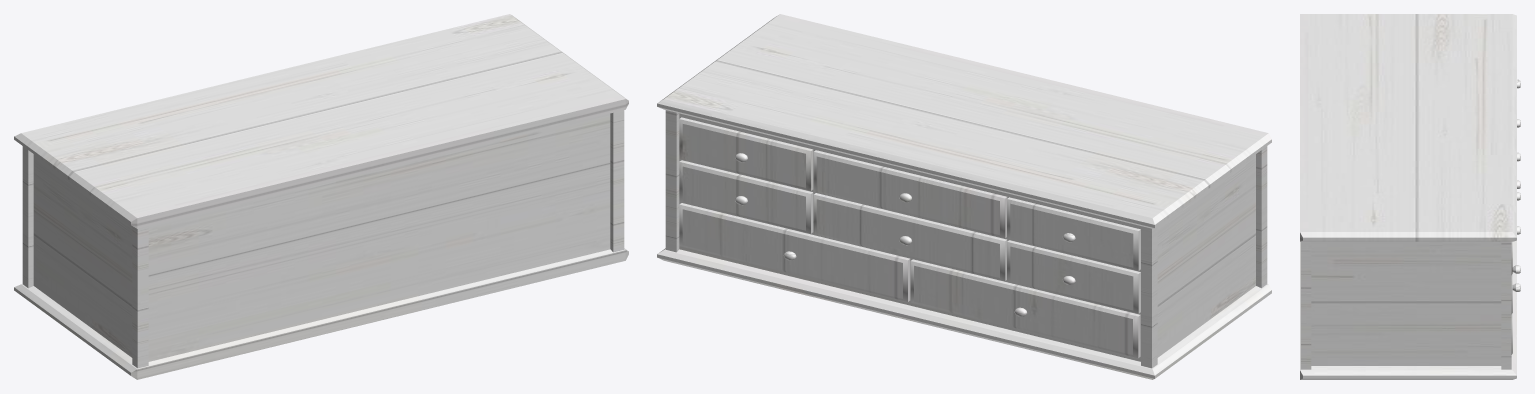
File: Cajonera.obj
3 views of the same model, side by side, from view 1: azimuth 30°, elevation 25°; view 2: azimuth 150°, elevation 25°; view 3: azimuth 270°, elevation 25° (orthographic). The views are drawn at different scales.
Size of the model in its own units: 183 by 56.85 by 76.92.
Materials: 1 (1 with a texture image).
